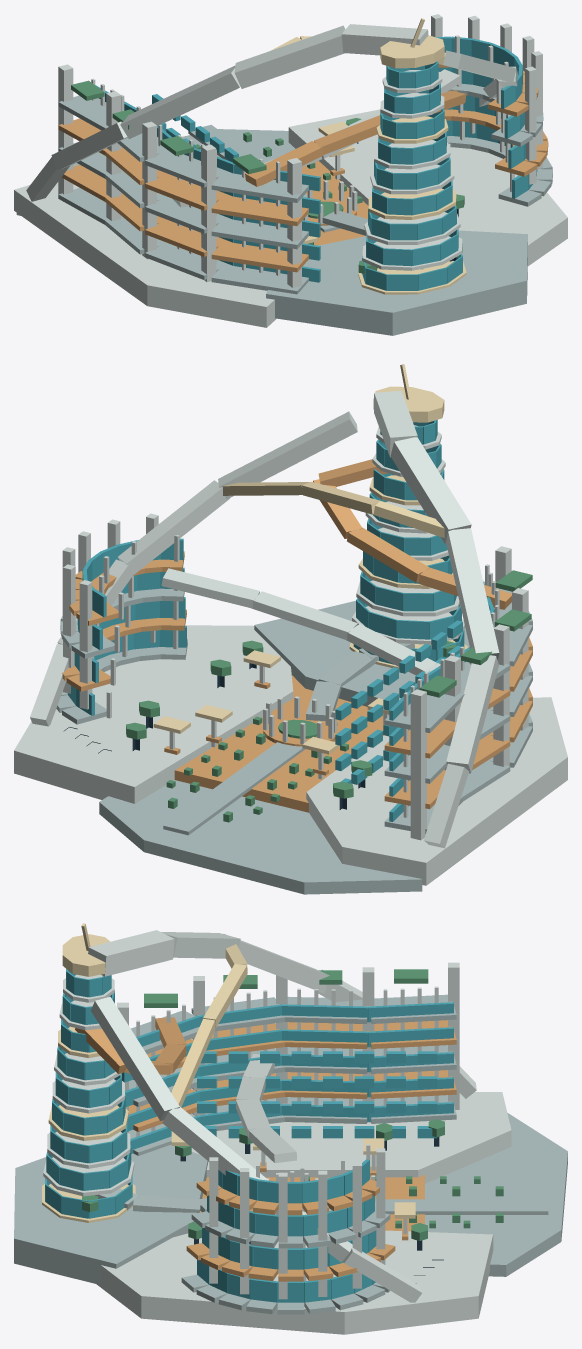
Rendered from a38_urban_weave.obj.
3 renders of one model, top to bottom at view 1: azimuth 30°, elevation 25°; view 2: azimuth 150°, elevation 25°; view 3: azimuth 270°, elevation 25°, orthographic. The views are drawn at different scales.
Bounding box in the file's own units: 406 × 261 × 422.
